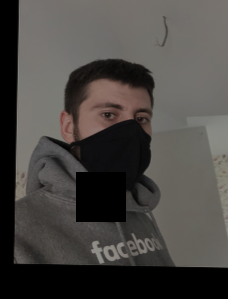with_mask: (77, 90, 151, 192)
